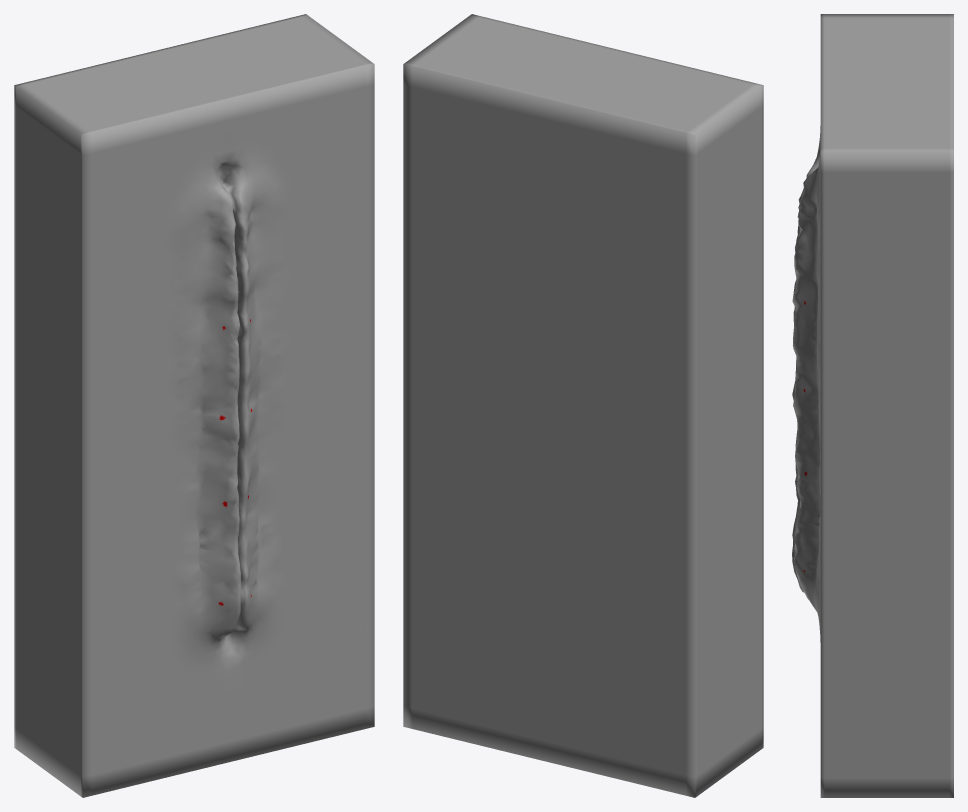
Rendered from Phantom.OBJ.
3 renders of one model, left to right at view 1: azimuth 30°, elevation 25°; view 2: azimuth 150°, elevation 25°; view 3: azimuth 270°, elevation 25°, orthographic. The views are drawn at different scales.
Visible parts, largest first — view 1: /ambf/env/Phantom_New_Phantom; view 2: /ambf/env/Phantom_New_Phantom; view 3: /ambf/env/Phantom_New_Phantom.
Part boxes in pixels (<box>): /ambf/env/Phantom_New_Phantom: <box>14,14,374,797</box>; /ambf/env/Phantom_New_Phantom: <box>403,14,763,797</box>; /ambf/env/Phantom_New_Phantom: <box>792,14,953,797</box>.
Size of the model in its own units: 0.797 by 1.73 by 0.3934.
1 material, 1 textured.
